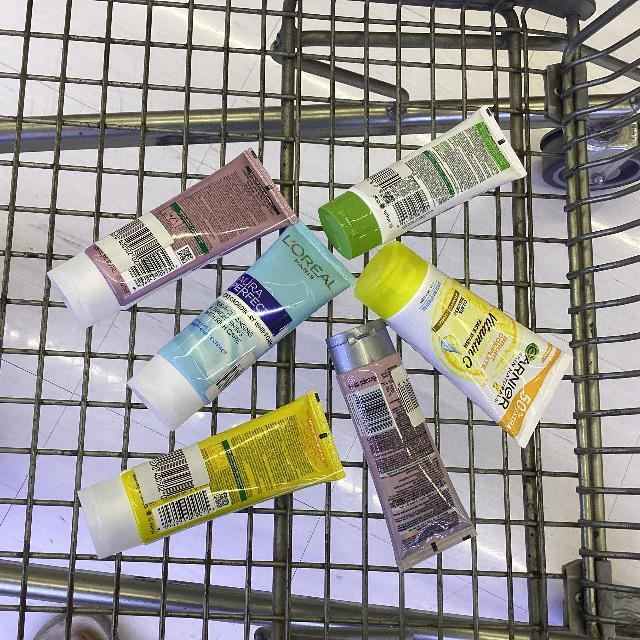Squeeze Tube: (47, 83, 615, 599)
